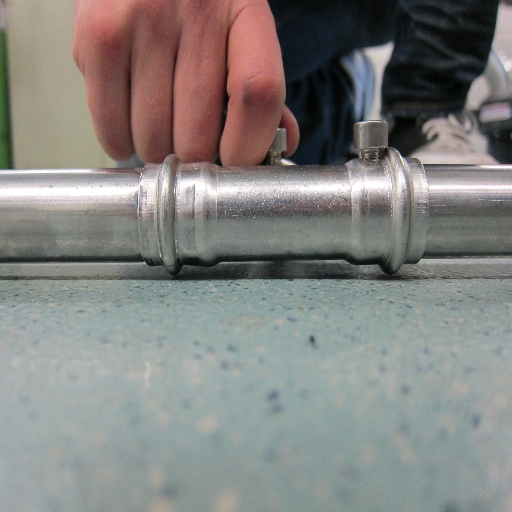hand: (70, 0, 301, 171)
